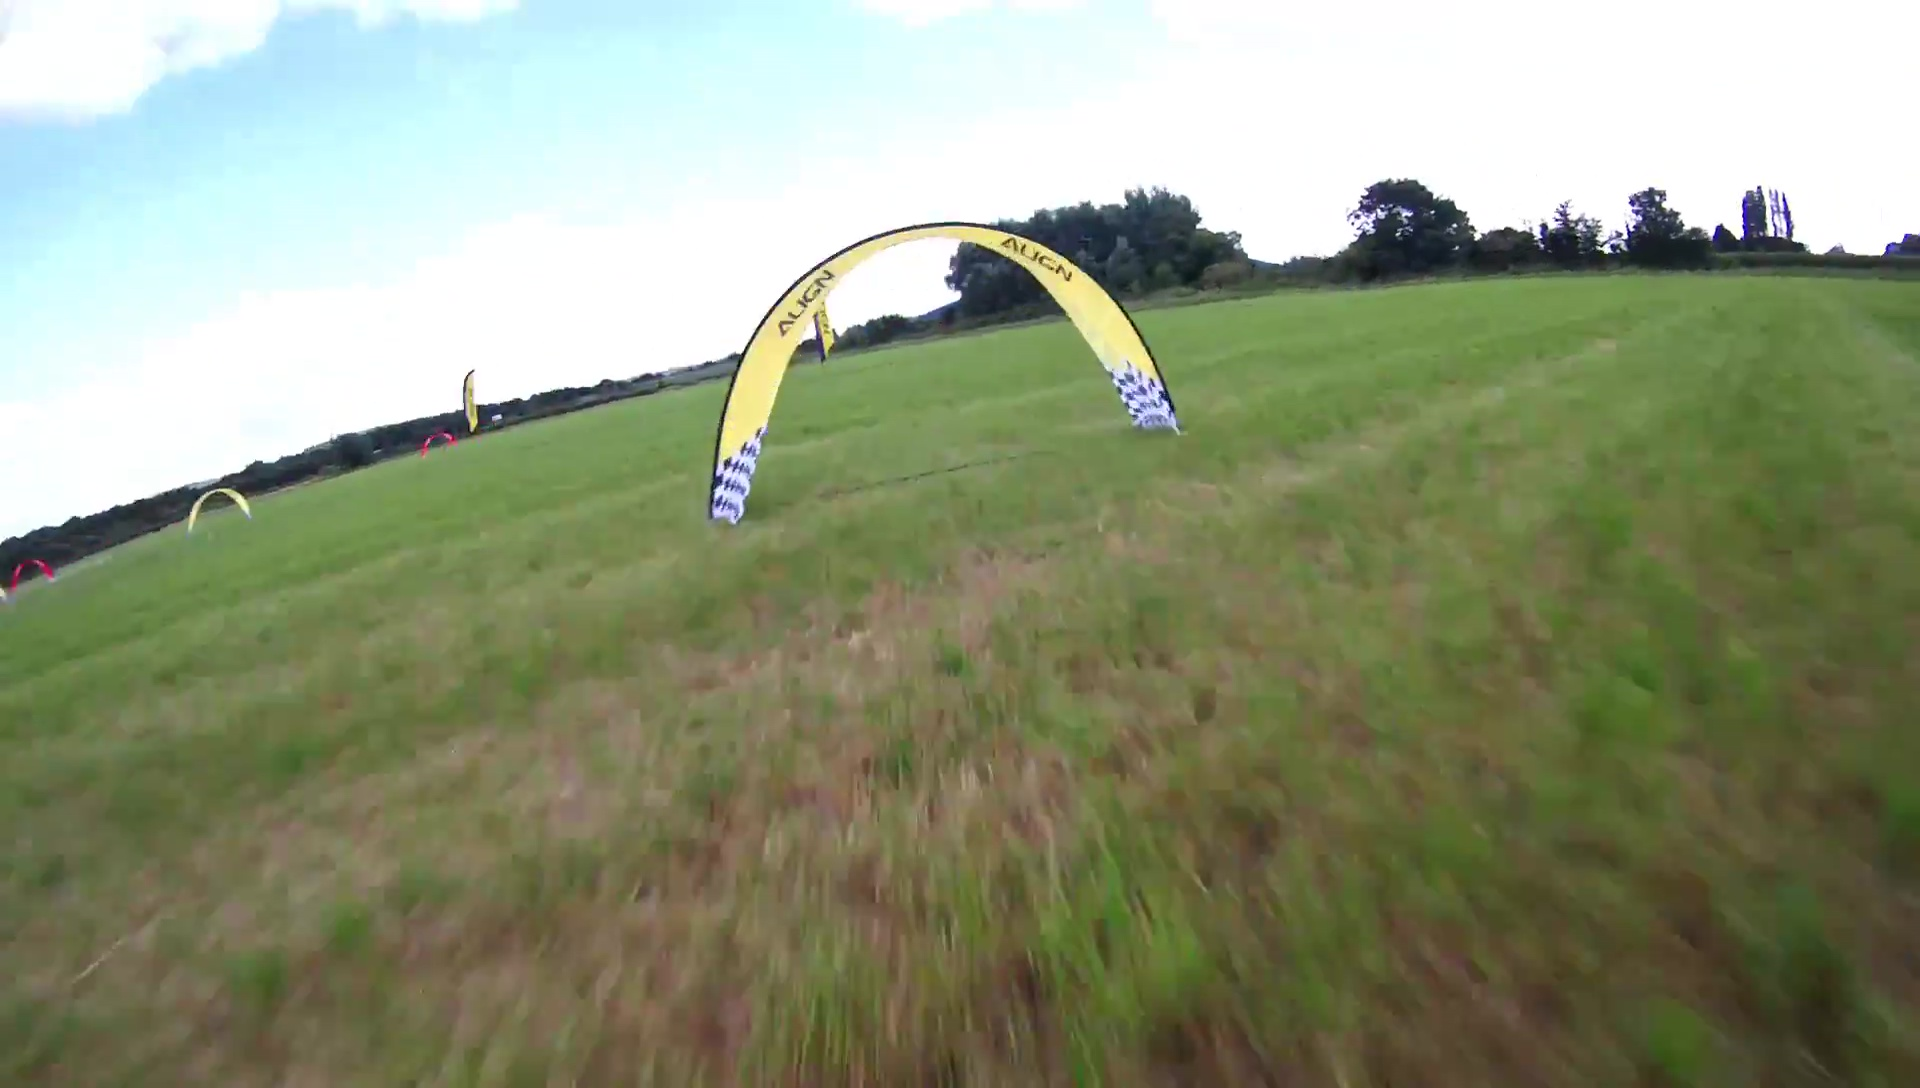gate: (705, 220, 1184, 531), (185, 485, 256, 534), (415, 429, 462, 458)
